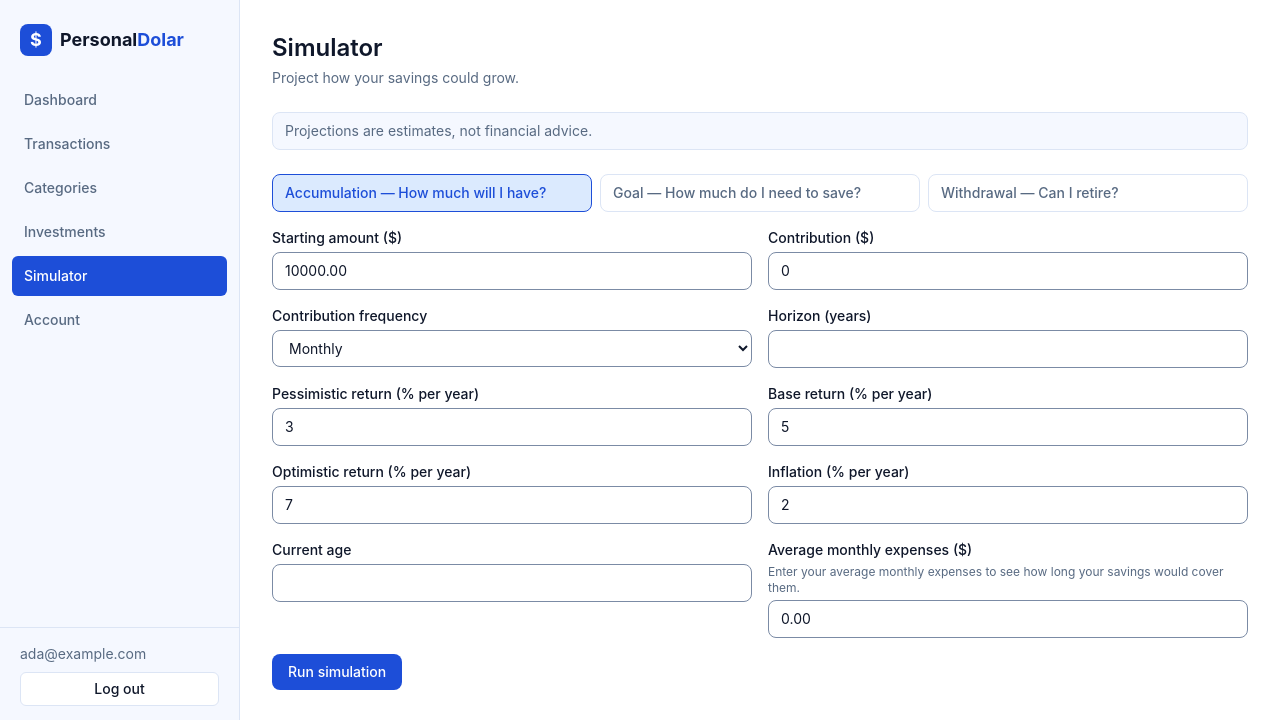
SimulatorPage › shows "—" and the hint when the average monthly expenses are 0
The image size is (1280, 720).
Check: the element named "Simulation mode" is shown, box [272, 174, 1248, 212]
Check: the text "Enter your average monthly expenses to see how long" is shown, box [768, 564, 1223, 595]
Type "30" into the field labelled "Current age". click: (512, 583)
box: [272, 564, 752, 602]
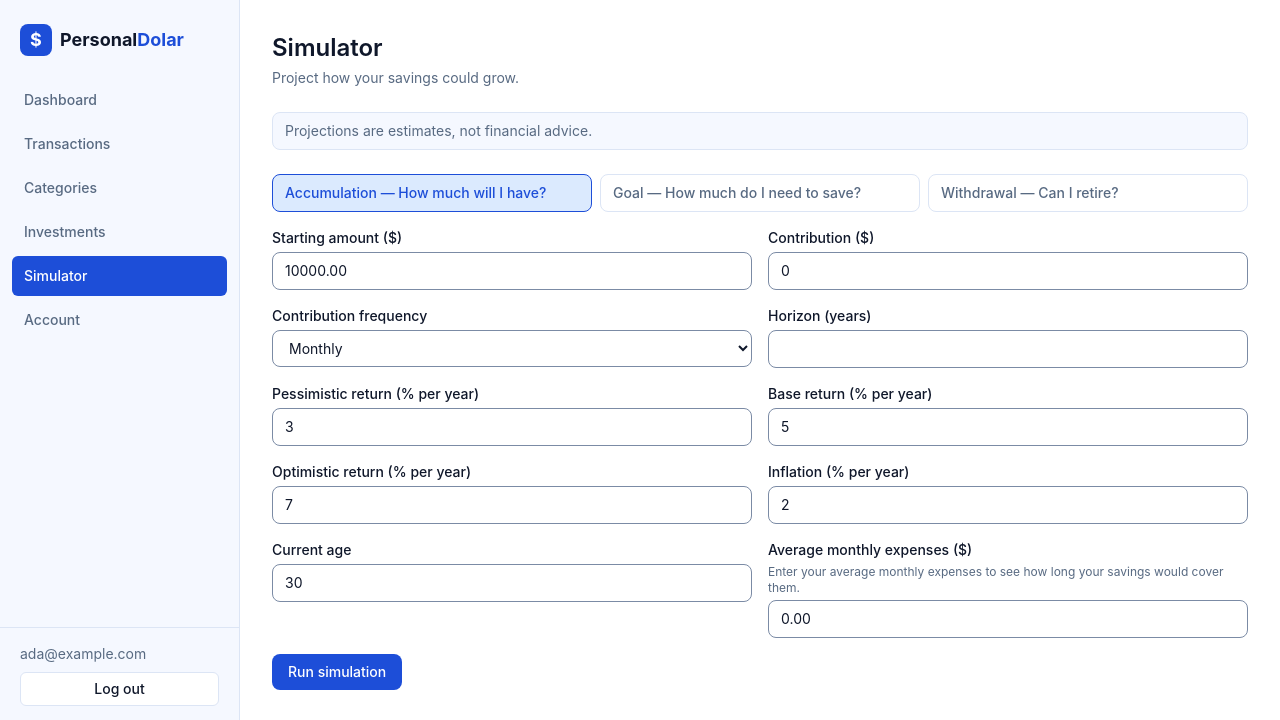
Type "10" into the field labelled "Horizon (years)". click: (1008, 349)
box: [768, 330, 1248, 368]
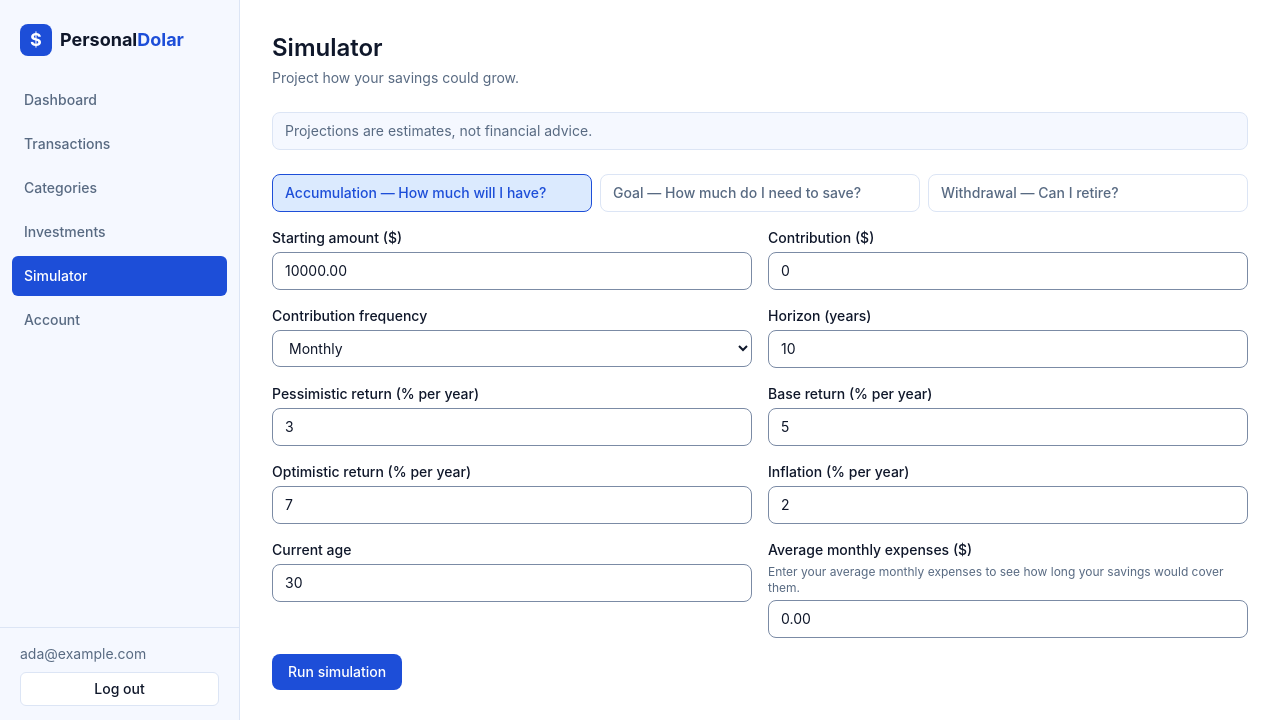
Click the button "Run simulation". click: (337, 672)
box: [272, 654, 402, 690]
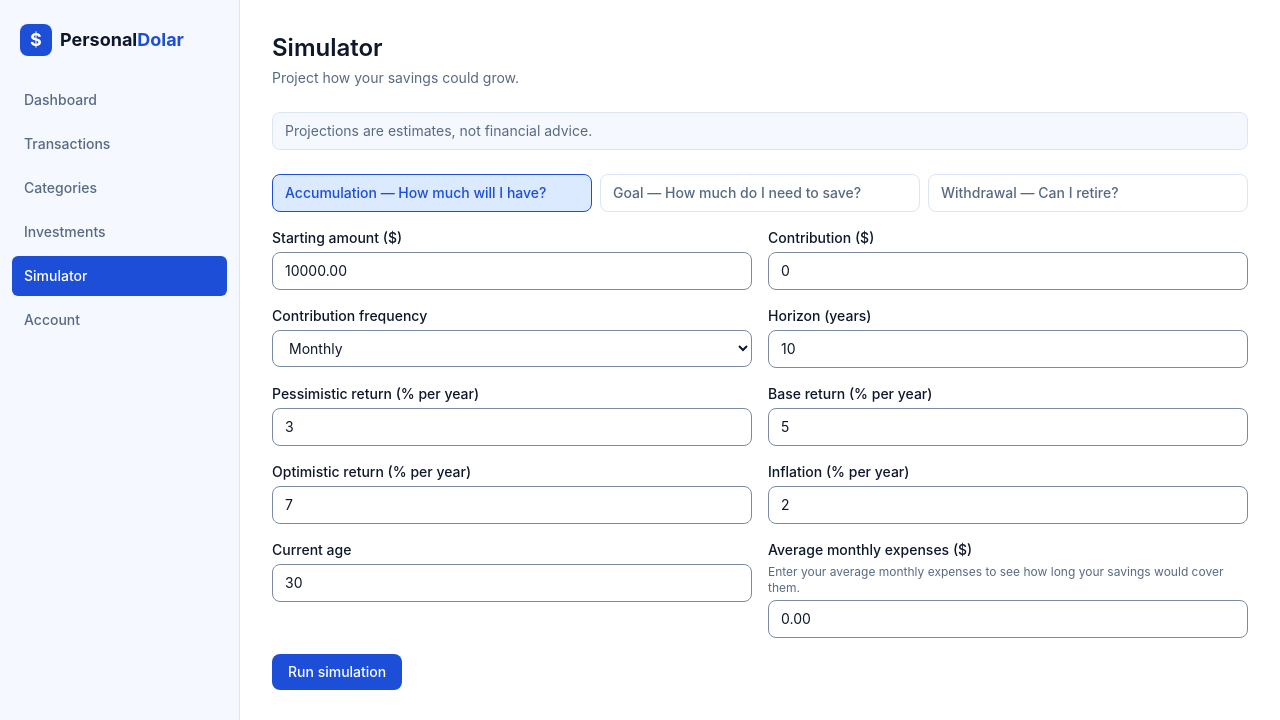
Replace the text in the field labelled "Average monthly expenses ($)" with "1500". click: (1008, 619)
box: [768, 600, 1248, 638]
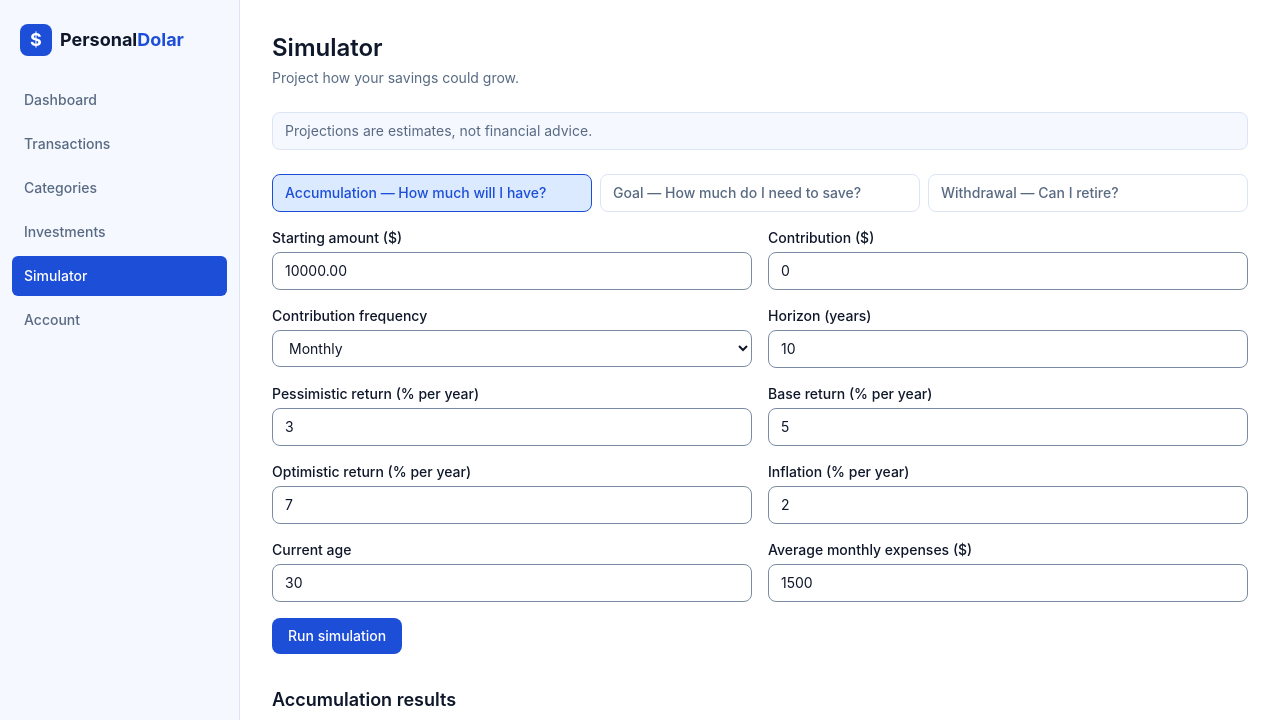
Check: the text "Enter your average monthly expenses" is gone
